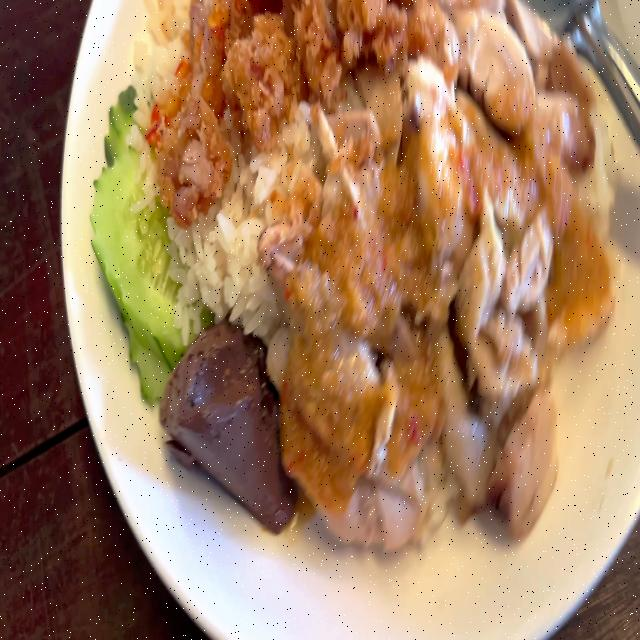boiled_chicken: (287, 8, 598, 510)
boiled_chicken_blood_jelly: (164, 320, 301, 534)
chicken_rice: (96, 0, 620, 532)
cucumber: (90, 87, 183, 384)
fried_chicken: (154, 0, 411, 173)
